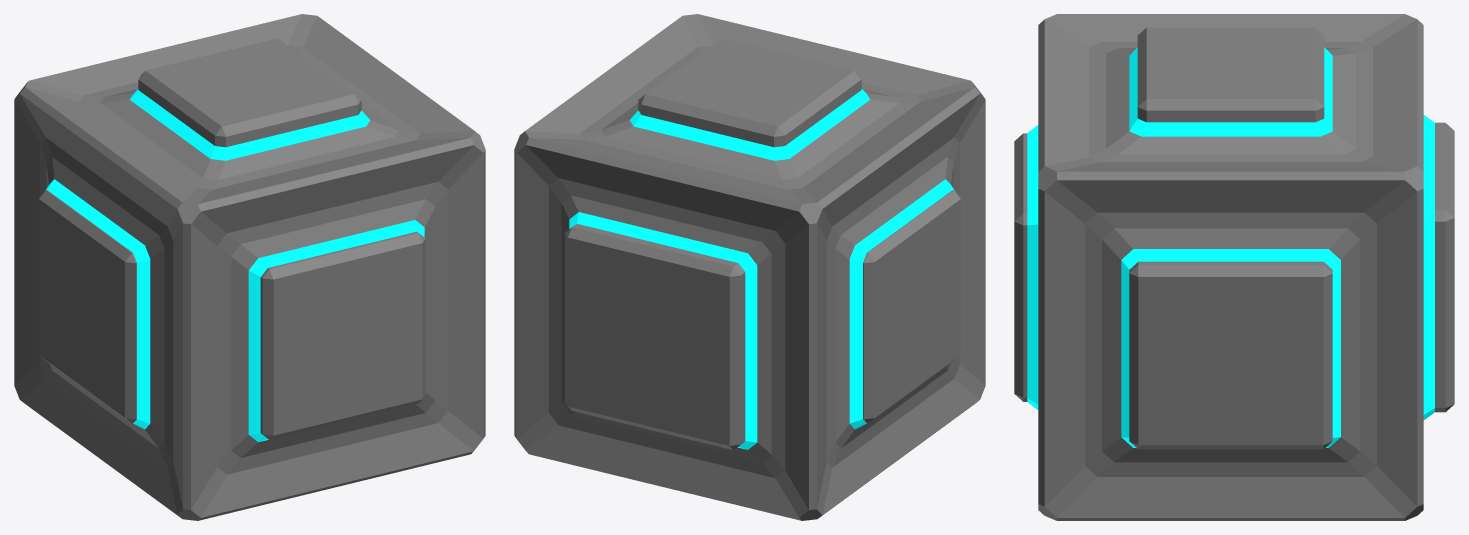
Rendered from Item_Box_Futuristic_2.fbx.
The picture shows the model from 3 angles, left to right: view 1: azimuth 30°, elevation 25°; view 2: azimuth 150°, elevation 25°; view 3: azimuth 270°, elevation 25°; orthographic projection. The views are drawn at different scales.
Visible parts, largest first — view 1: Item Box Futuristic 2; view 2: Item Box Futuristic 2; view 3: Item Box Futuristic 2.
Part boxes in pixels (left/top/right/bottom): Item Box Futuristic 2: left=14, top=14, right=485, bottom=520; Item Box Futuristic 2: left=514, top=14, right=985, bottom=520; Item Box Futuristic 2: left=1014, top=14, right=1454, bottom=520.
Bounding box in the file's own units: 223 × 225 × 226.
